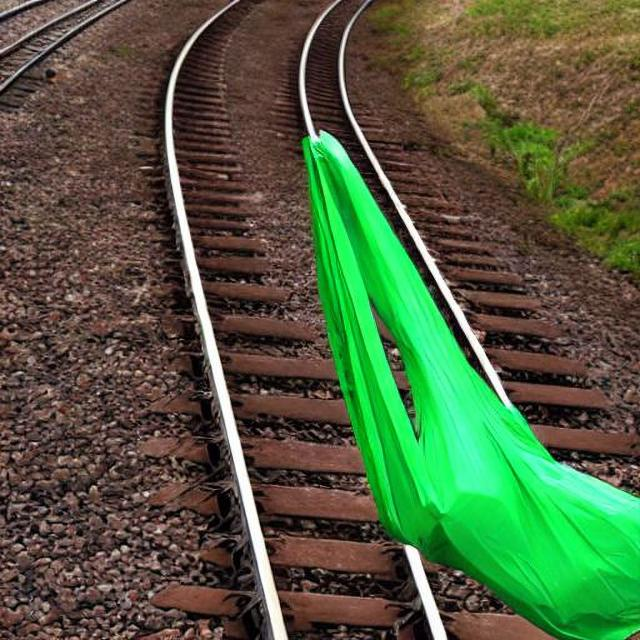floating object: (300, 96, 627, 632)
